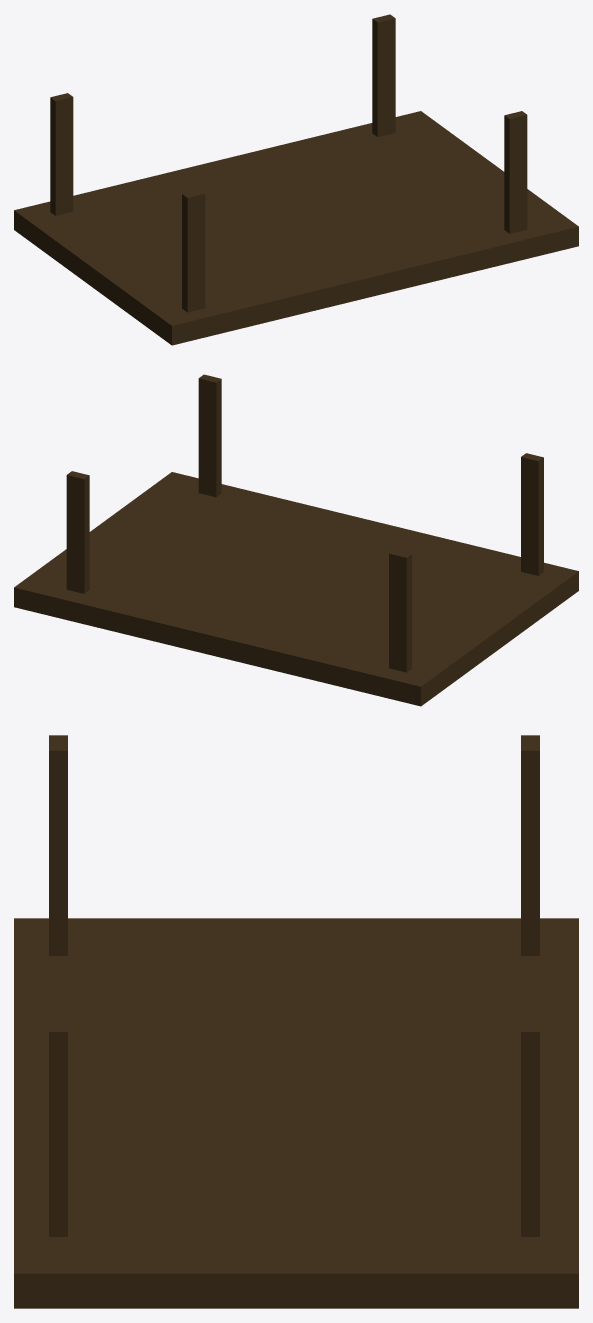
The model's file is Table_Prop.fbx.
The picture shows the model from 3 angles, top to bottom: view 1: azimuth 30°, elevation 25°; view 2: azimuth 150°, elevation 25°; view 3: azimuth 270°, elevation 25°; orthographic projection. The views are drawn at different scales.
Visible parts, largest first — view 1: Table_Mesh; view 2: Table_Mesh; view 3: Table_Mesh.
Part boxes in pixels (x1=…): Table_Mesh: x1=14, y1=14, x2=578, y2=345; Table_Mesh: x1=14, y1=374, x2=578, y2=706; Table_Mesh: x1=14, y1=735, x2=578, y2=1308.
Bounding box in the file's own units: 22.97 × 7.25 × 15.44.
